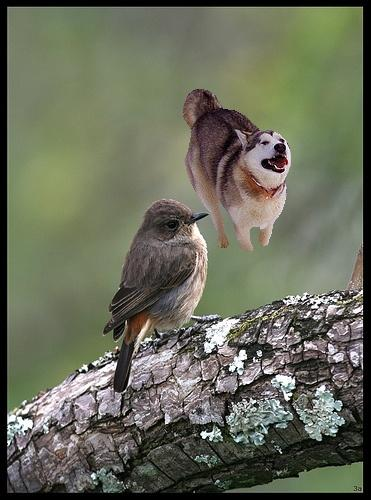tampered: (184, 90, 291, 251)
